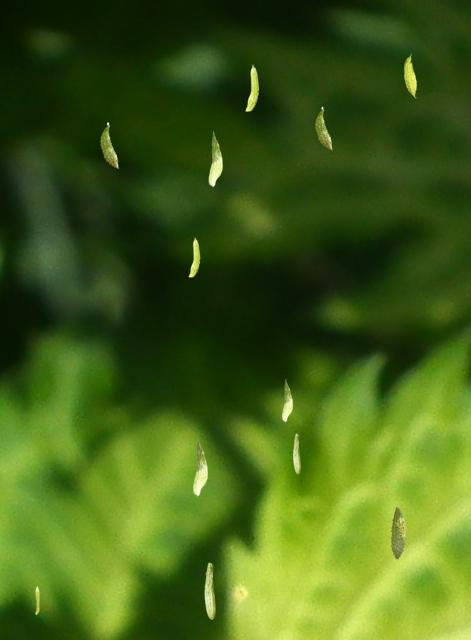ampalaya: (192, 438, 208, 496), (99, 122, 119, 168), (389, 506, 406, 559), (208, 130, 223, 187), (314, 106, 332, 150), (204, 562, 216, 619), (245, 64, 259, 111), (403, 53, 417, 98), (281, 378, 293, 422), (188, 237, 200, 277), (292, 433, 301, 474), (35, 586, 39, 615)
